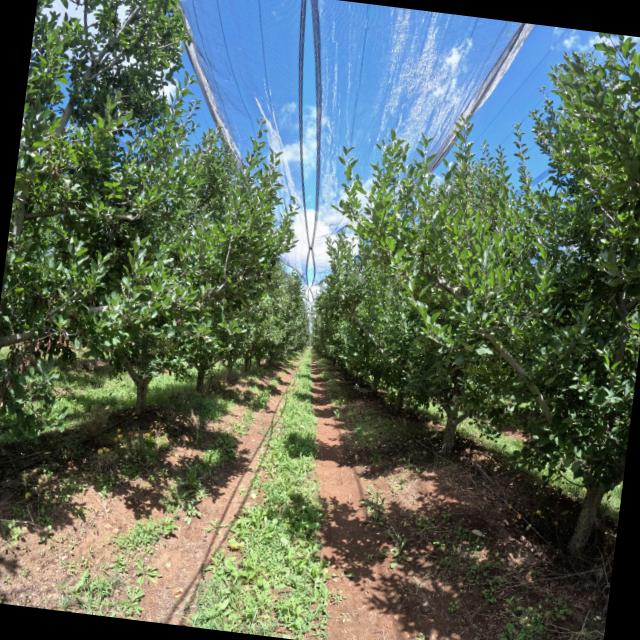-FireBlight-: (5, 328, 68, 388), (49, 162, 59, 181)
